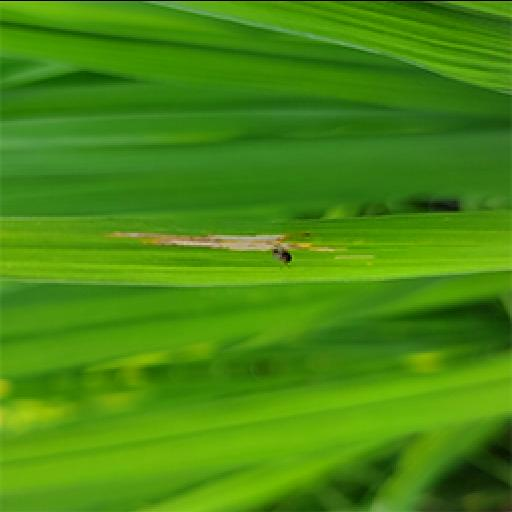Bacterial Leaf Blight: (100, 216, 372, 278)
